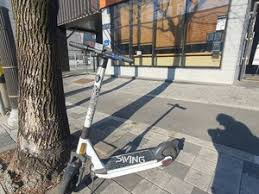kick_board: (59, 42, 178, 194)
kick_handler: (70, 41, 133, 67)
kick_neck: (79, 68, 104, 150)
kick_wheel: (58, 159, 83, 194), (157, 140, 178, 166)
